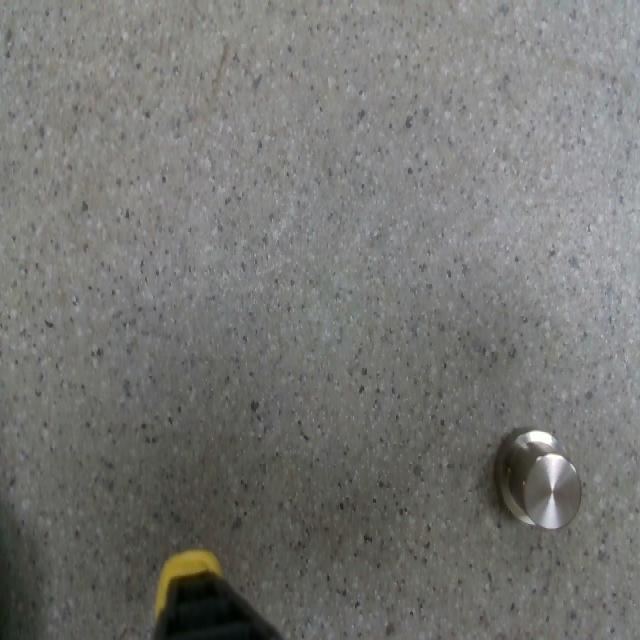sensor: (497, 429, 580, 528)
